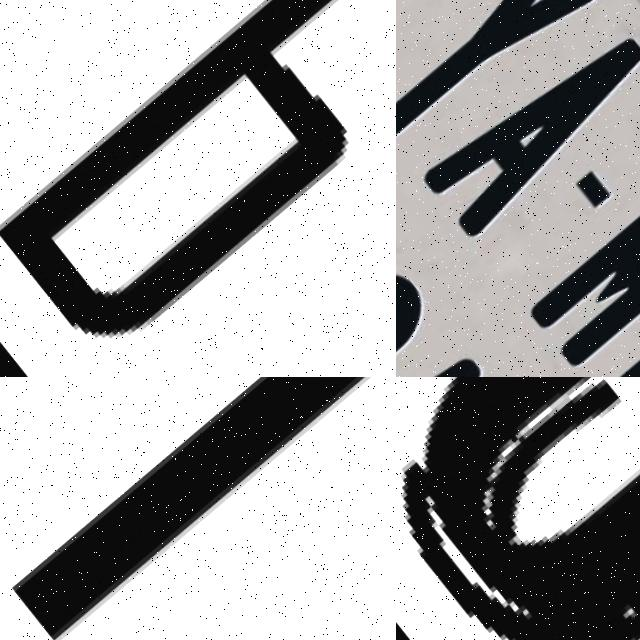A: (418, 12, 640, 249)
J: (396, 377, 640, 640)
L: (1, 377, 396, 640)
M: (530, 149, 640, 377)
Y: (396, 0, 604, 174)
